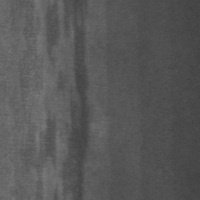inclusion: (34, 1, 90, 199)
